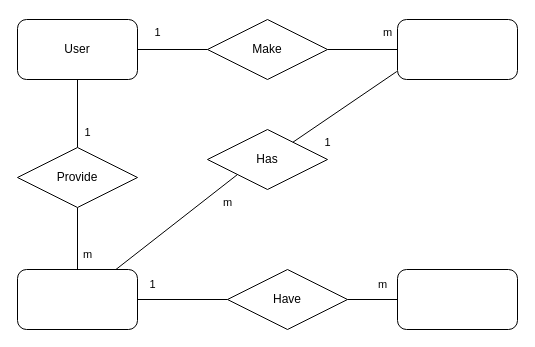
Image size: 535x347. Some labels were removed from this diagram. Here are the shapes that lost their labels. From the top down, the centre of each, then its label:
At point 457,49: "Request".
At point 77,299: "Solution".
At point 457,299: "Feedback".
